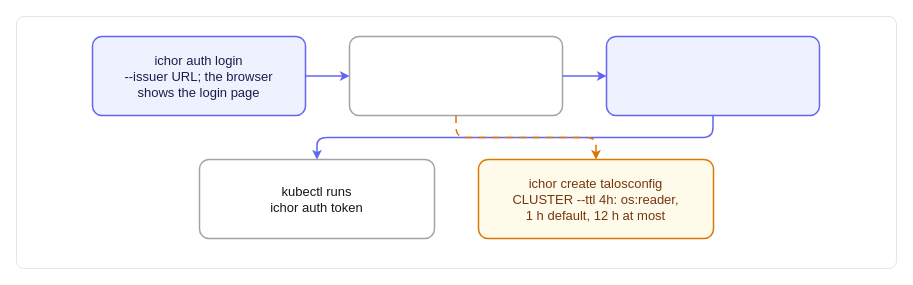
The diagram is 913 pixels wide and 285 high, and some of its shapes have lost their labels. Here are the shapes that lost their labels. From the top down, the centre of each, then its label:
At pixel 455 75: "Tokens cached in ~/.ichor/auth/".
At pixel 712 75: "ichor create kubeconfig --issuer URL --out FILE".
